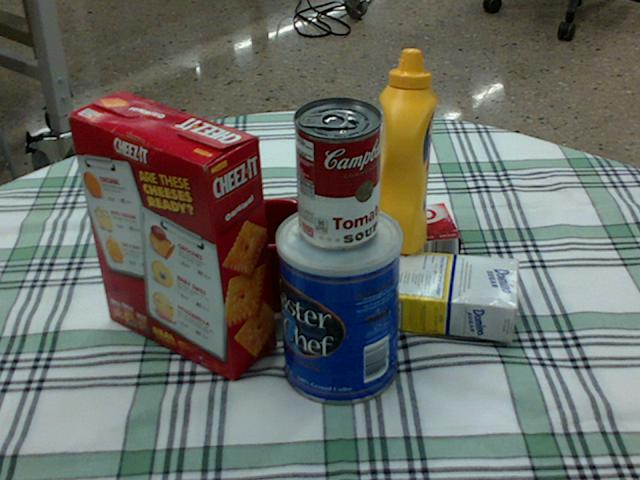cracker_box: (65, 93, 276, 378)
gelatin_box: (366, 203, 458, 265)
master_chef_can: (275, 202, 401, 404)
mug: (226, 198, 323, 311)
mustard_bottle: (370, 49, 436, 253)
potted_meat_can: (149, 195, 257, 282)
sugar_box: (327, 244, 519, 338)
tomato_soup_can: (291, 96, 379, 248)
tuna_fish_can: (167, 170, 253, 240)
